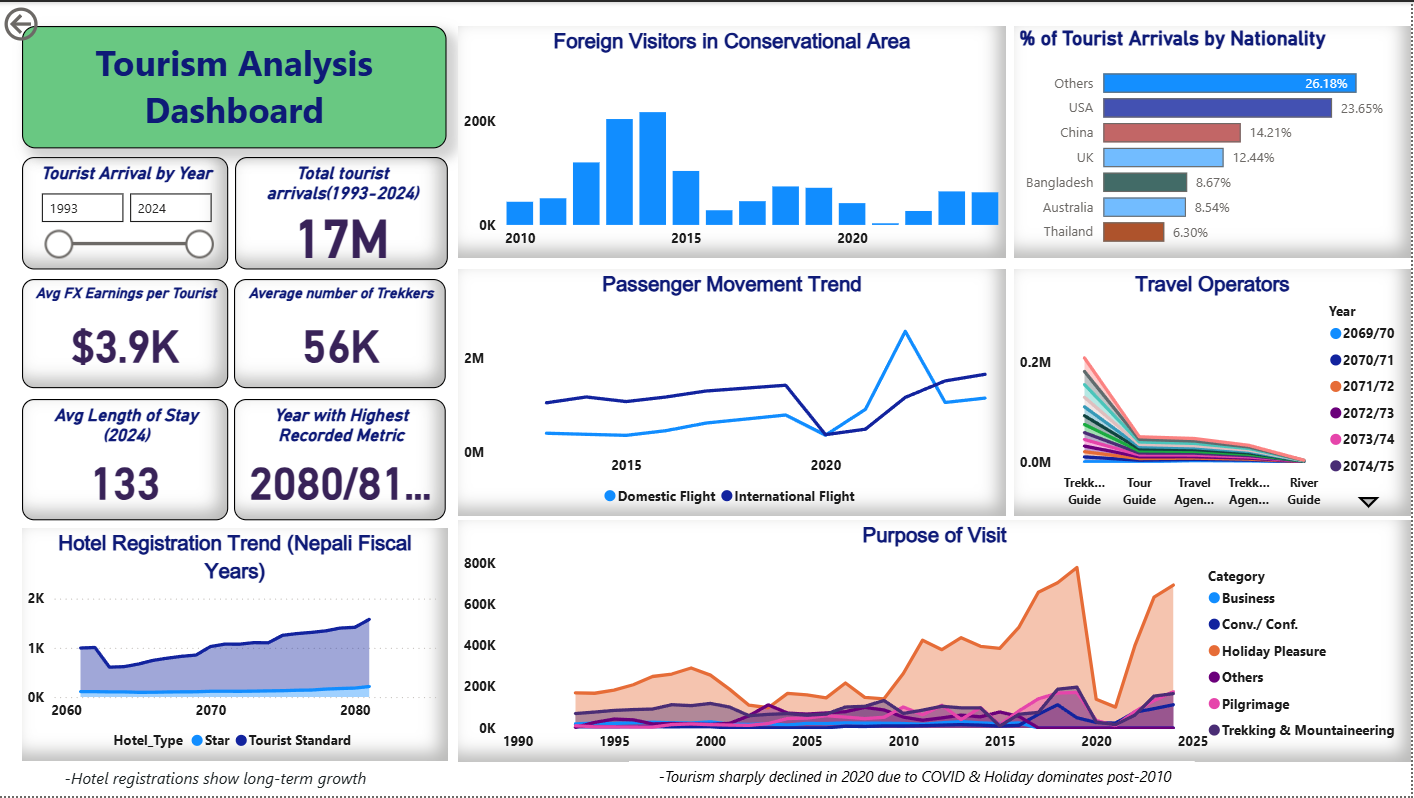

The dashboard page shown, as its layout file describes it:
{"tool":"powerbi","page":{"name":"Page 1","canvas":[1280,720],"ordinal":0},"visuals":[{"type":"slicer","title":"Tourist Arrival by Year","fields":{"Values":["11 tourist-arrival-by-purpose-o.Year"]},"box":[21,141,187,102],"z":0},{"type":"textbox","box":[20.7,21.8,385.1,111.5],"z":1000},{"type":"lineChart","title":"Passenger Movement Trend","fields":{"Category":["20 international-flight-and-pas.Year"],"Y":["Avg(21 domestic-flight-passenger-mo.Value)","Avg(20 international-flight-and-pas.Value)"]},"box":[416.2,242.1,496.9,224],"z":2000},{"type":"stackedAreaChart","title":"Hotel Registration Trend (Nepali Fiscal Years)","fields":{"Category":["23 tourist-standard-hotel-regis.Year"],"Y":["Sum(23 tourist-standard-hotel-regis.Hotel_Count)"],"Series":["23 tourist-standard-hotel-regis.Hotel_Type"]},"box":[20.9,477,386.3,211.3],"z":3000},{"type":"stackedAreaChart","title":"Travel Operators ","fields":{"Series":["24 -tourist-industries-and-guid.Year"],"Category":["24 -tourist-industries-and-guid.Category"],"Y":["Sum(24 -tourist-industries-and-guid.Value)"]},"box":[920.3,241.8,359.7,223.8],"z":4000},{"type":"columnChart","title":"Foreign Visitors in Conservational Area","fields":{"Category":["13number-of-foreign-visitors-to.Year"],"Y":["Sum(13number-of-foreign-visitors-to.Visitors)"]},"box":[416.2,21.8,496.9,210.4],"z":5000},{"type":"areaChart","title":"Purpose of Visit","fields":{"Series":["11 tourist-arrival-by-purpose-o.Category"],"Y":["Avg(11 tourist-arrival-by-purpose-o.Value)"],"Category":["11 tourist-arrival-by-purpose-o.Year"]},"box":[416.2,469.7,864.2,218.5],"z":6000},{"type":"card","title":"Total tourist arrivals(1993-2024)","fields":{"Values":["foreign_exchange_earning.Total Tourist Arrivals"]},"box":[213.6,140.9,192.7,101.8],"z":7000},{"type":"textbox","box":[571.6,688.5,496.6,32],"z":8000},{"type":"textbox","box":[54,688.5,291.8,32],"z":9000},{"type":"card","title":"Avg FX Earnings per Tourist","fields":{"Values":["foreign_exchange_earning.Avg FX per Tourist (Formatted)"]},"box":[20.9,251.2,186.8,98.8],"z":10000},{"type":"card","title":"Average number of Trekkers","fields":{"Values":["Sum(12number-of-trekkers-in-differe.Value)"]},"box":[213.1,251.2,192.2,98.8],"z":11000},{"type":"card","title":"Avg Length of Stay (2024)","fields":{"Values":["tourismdata.Avg_Stay_2024"]},"box":[21,359.7,186.9,109.9],"z":12000},{"type":"card","title":"Year with Highest Recorded Metric","fields":{"Values":["economic-indicator-of-hotel.Year with Highest Metric"]},"box":[213.1,360,192.2,109.7],"z":13000},{"type":"barChart","title":"% of Tourist Arrivals by Nationality","fields":{"Y":["nationality.Percentage of Total (%)"],"Category":["nationality.Nationality"]},"box":[920,22,360,210],"z":14000},{"type":"actionButton","box":[0,0,100,40],"z":15000}]}

Visuals, with their boxes in screenshot pixels (x1, y1, x2, y2), scaled from the page's 1280x720 canvas onto the 1414x798 screenshot:
"Tourist Arrival by Year" slicer: select_region(23, 156, 230, 269)
textbox: select_region(23, 24, 448, 148)
"Passenger Movement Trend" lineChart: select_region(460, 268, 1009, 517)
"Hotel Registration Trend (Nepali Fiscal Years)" stackedAreaChart: select_region(23, 529, 450, 763)
"Travel Operators " stackedAreaChart: select_region(1017, 268, 1413, 516)
"Foreign Visitors in Conservational Area" columnChart: select_region(460, 24, 1009, 257)
"Purpose of Visit" areaChart: select_region(460, 521, 1413, 763)
"Total tourist arrivals(1993-2024)" card: select_region(236, 156, 449, 269)
textbox: select_region(631, 763, 1180, 797)
textbox: select_region(60, 763, 382, 797)
"Avg FX Earnings per Tourist" card: select_region(23, 278, 229, 388)
"Average number of Trekkers" card: select_region(235, 278, 448, 388)
"Avg Length of Stay (2024)" card: select_region(23, 399, 230, 520)
"Year with Highest Recorded Metric" card: select_region(235, 399, 448, 521)
"% of Tourist Arrivals by Nationality" barChart: select_region(1016, 24, 1413, 257)
actionButton: select_region(0, 0, 110, 44)
